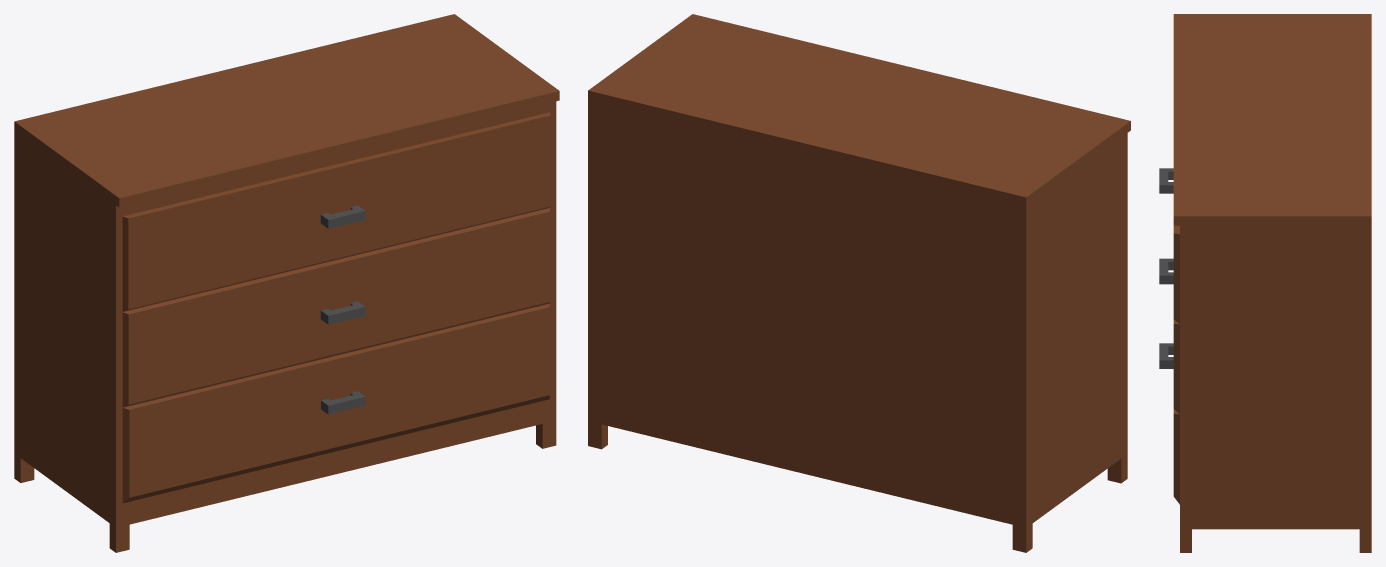
File: drawer01.gltf
3 views of the same model, side by side, from view 1: azimuth 30°, elevation 25°; view 2: azimuth 150°, elevation 25°; view 3: azimuth 270°, elevation 25° (orthographic). The views are drawn at different scales.
Parts seen in each view (by area): view 1: Cube; view 2: Cube; view 3: Cube.
Part boxes in pixels (x1,y1,x2,y2): Cube: (14, 14, 559, 552); Cube: (588, 14, 1130, 552); Cube: (1159, 14, 1371, 552).
Size of the model in its own units: 1.2 by 0.9302 by 0.5313.
1 material, 1 textured.
